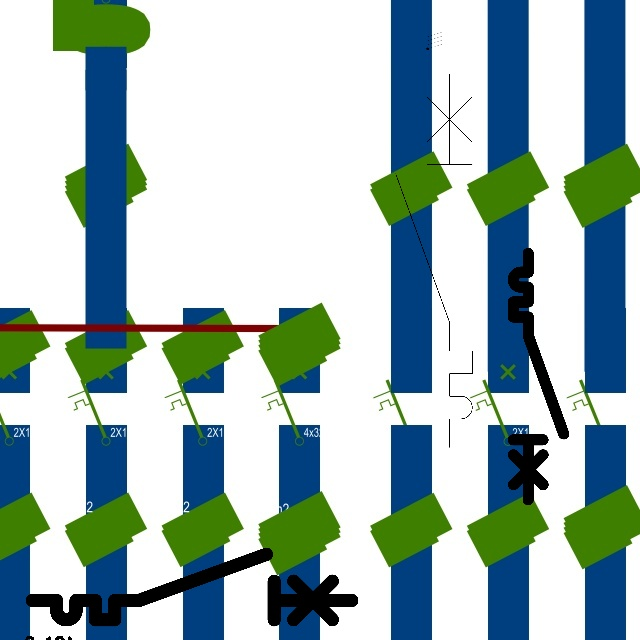interruptor_termomagnetico: (386, 64, 482, 456), (24, 546, 360, 628), (507, 247, 570, 506)
